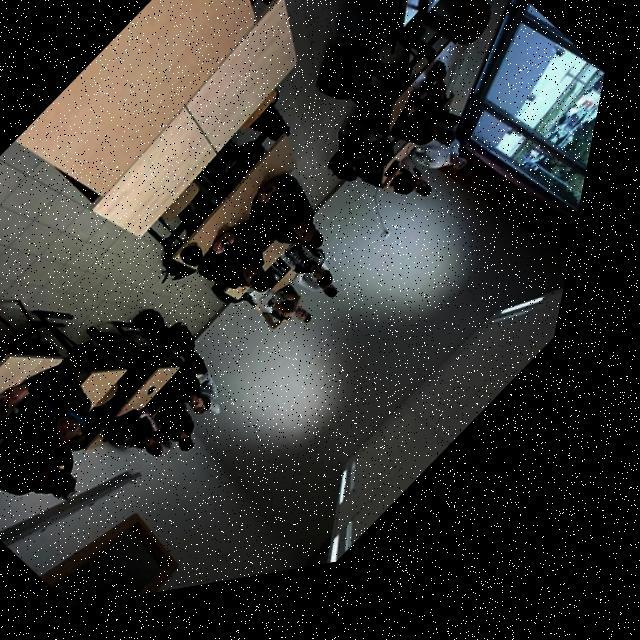phone_use: (0, 328, 155, 496), (197, 209, 330, 326), (234, 173, 335, 295), (372, 60, 462, 193), (0, 470, 138, 543), (378, 140, 463, 194)
